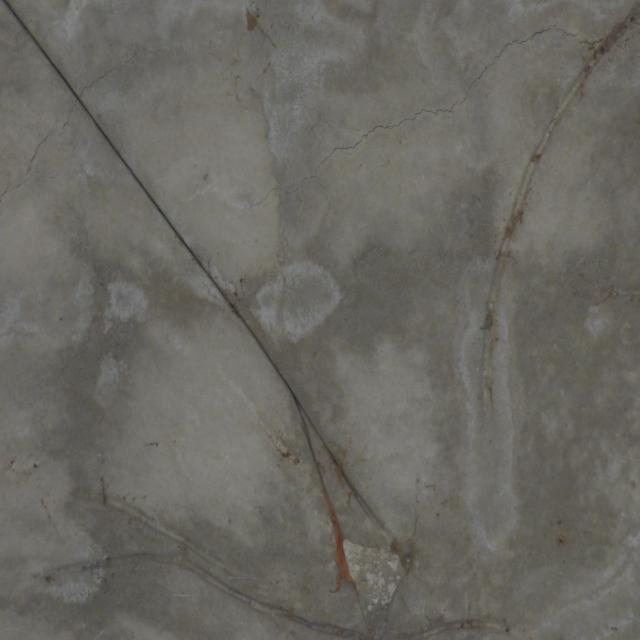diagonal crack: (248, 24, 605, 209), (0, 45, 161, 202), (293, 394, 372, 637)
vertical crack: (378, 477, 420, 640)
